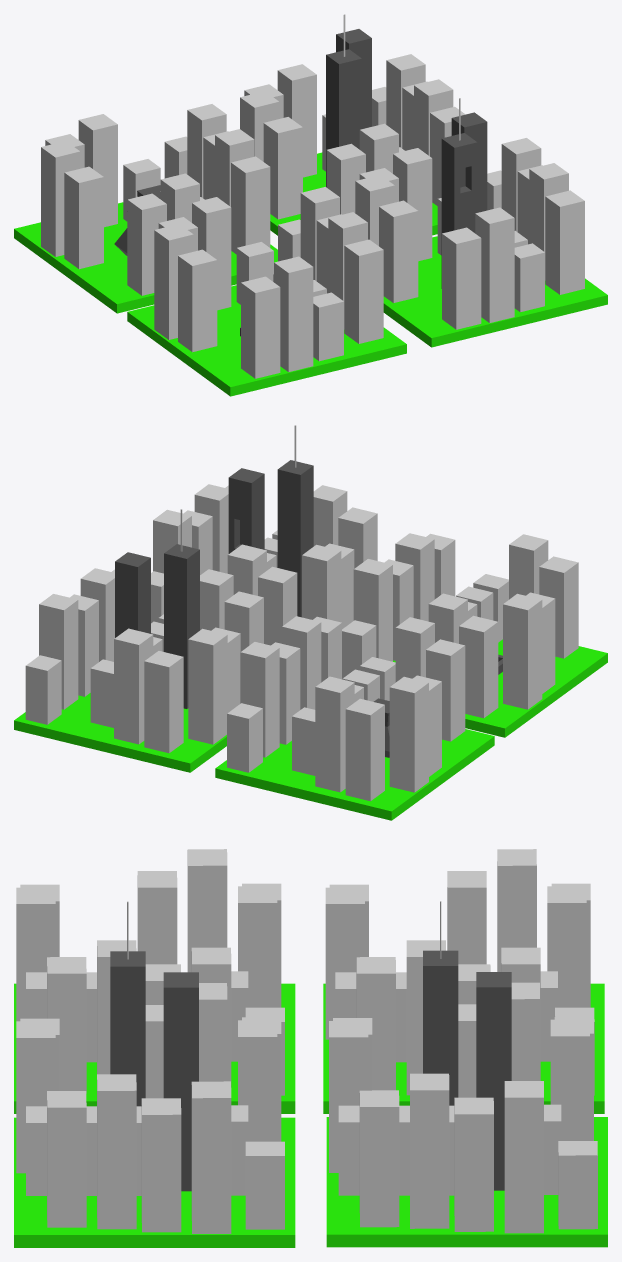
Rendered from asset.glb.
The picture shows the model from 3 angles, top to bottom: view 1: azimuth 30°, elevation 25°; view 2: azimuth 150°, elevation 25°; view 3: azimuth 270°, elevation 25°; orthographic projection. The views are drawn at different scales.
Parts seen in each view (by area): view 1: Cube.038, Cube.020, Cube.056, Cube.032, Cube.050, Cube.044, Cube.026, Cube.063, Cube.045, Cube.042, Cube.024, Cube.027 (+40 smaller); view 2: Cube.056, Cube.002, Cube.046, Cube.064, Cube.011, Cube, Cube.018, Cube.003, Cube.057, Cube.005, Cube.059, Cube.038 (+43 smaller); view 3: Cube.002, Cube.020, Cube.031, Cube.033, Cube.016, Cube.014, Cube.015, Cube.029, Cube.032, Cube.019, Cube.001, Cube.012 (+49 smaller).
Boxes of the visible parts, x1=… form: Cube.038: x1=127, y1=285, x2=406, y2=396; Cube.020: x1=383, y1=236, x2=607, y2=347; Cube.056: x1=14, y1=202, x2=277, y2=313; Cube.032: x1=545, y1=190, x2=584, y2=294; Cube.050: x1=344, y1=239, x2=383, y2=343; Cube.044: x1=274, y1=256, x2=313, y2=372; Cube.026: x1=475, y1=207, x2=514, y2=322; Cube.063: x1=64, y1=166, x2=103, y2=269; Cube.045: x1=178, y1=249, x2=217, y2=352; Cube.042: x1=241, y1=276, x2=280, y2=378; Cube.024: x1=442, y1=227, x2=481, y2=329; Cube.027: x1=379, y1=200, x2=418, y2=302; Cube.056: x1=215, y1=729, x2=494, y2=820; Cube.002: x1=14, y1=693, x2=226, y2=772; Cube.046: x1=503, y1=593, x2=542, y2=709; Cube.064: x1=389, y1=676, x2=428, y2=792; Cube.011: x1=188, y1=628, x2=227, y2=744; Cube: x1=164, y1=544, x2=199, y2=708; Cube.018: x1=277, y1=460, x2=313, y2=617; Cube.003: x1=144, y1=651, x2=183, y2=753; Cube.057: x1=345, y1=698, x2=384, y2=801; Cube.005: x1=114, y1=628, x2=153, y2=744; Cube.059: x1=315, y1=676, x2=354, y2=792; Cube.038: x1=393, y1=639, x2=607, y2=737; Cube.002: x1=326, y1=1117, x2=607, y2=1247; Cube.020: x1=14, y1=1117, x2=295, y2=1247; Cube.031: x1=191, y1=1081, x2=231, y2=1233; Cube.033: x1=97, y1=1074, x2=136, y2=1229; Cube.016: x1=410, y1=1073, x2=449, y2=1228; Cube.014: x1=504, y1=1081, x2=543, y2=1233; Cube.015: x1=359, y1=1090, x2=399, y2=1227; Cube.029: x1=141, y1=1098, x2=181, y2=1232; Cube.032: x1=47, y1=1091, x2=86, y2=1227; Cube.019: x1=163, y1=972, x2=198, y2=1191; Cube.001: x1=476, y1=972, x2=511, y2=1190; Cube.012: x1=454, y1=1097, x2=493, y2=1231.
Bounding box in the file's own units: 81.81 × 41.74 × 81.69.
